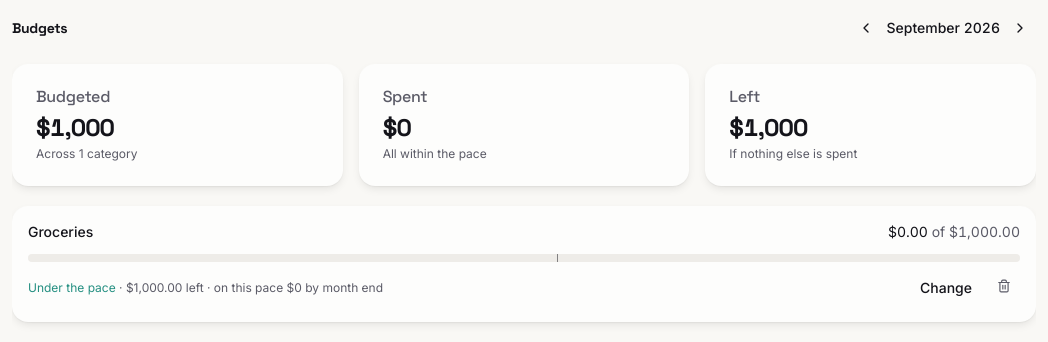
Test case: moving between months › shows another month's budgets, not this month's
expect the text "Groceries" is shown: met, box [28, 222, 93, 242]
Click the button named "Next month". click: point(1020, 28)
box: [1004, 12, 1036, 44]
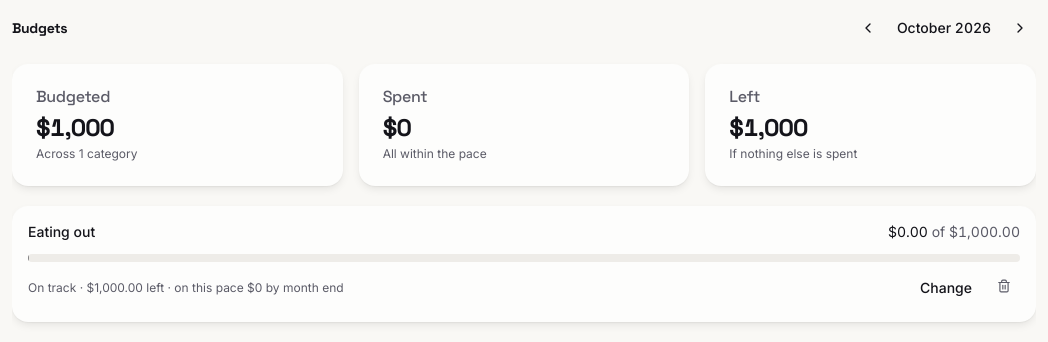
expect the text "October 2026" is shown: met, box [897, 19, 991, 36]
expect the text "Eating out" is shown: met, box [28, 222, 95, 242]
expect the text "Groceries" is gone: met
